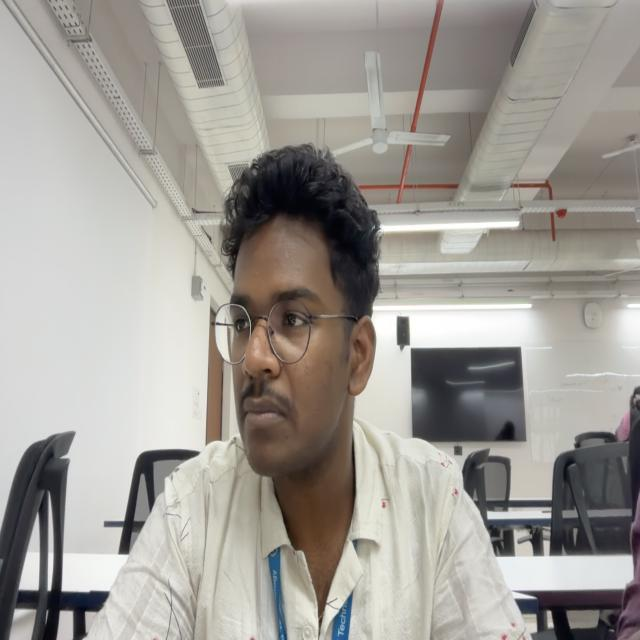sai: (211, 142, 377, 472)
